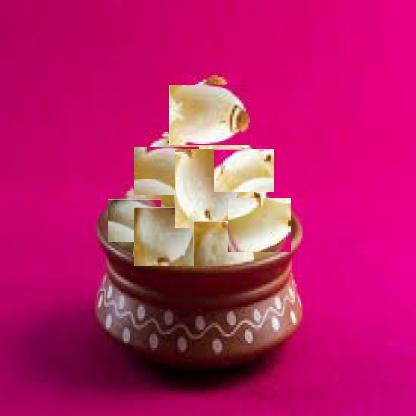rasgulla: (174, 148, 238, 228), (175, 80, 245, 151), (133, 207, 195, 266), (230, 196, 289, 255), (138, 142, 194, 200), (193, 221, 254, 266), (219, 145, 270, 197), (110, 197, 159, 245)
